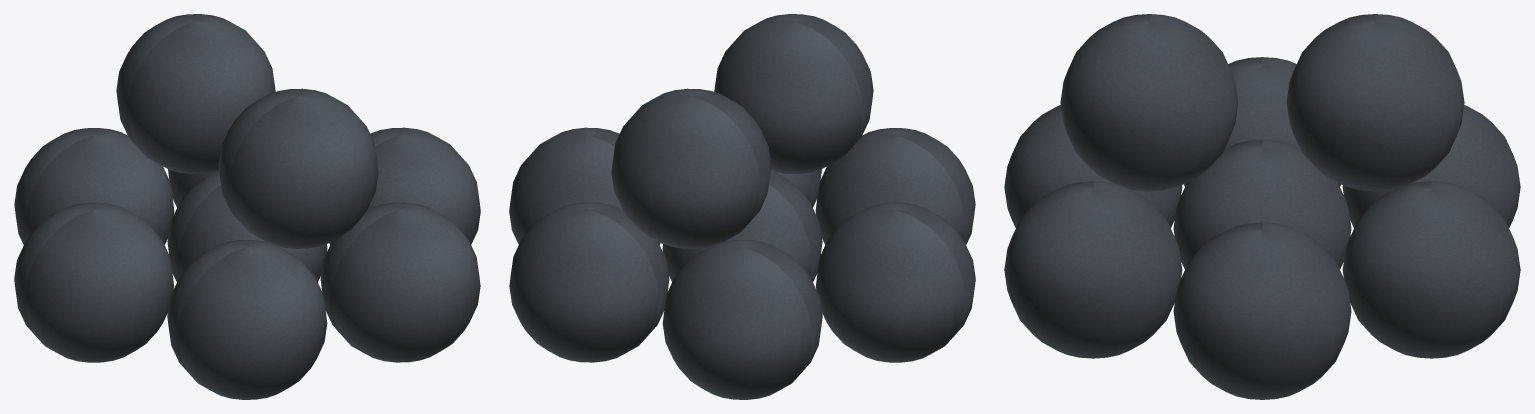
Rendered from ShotgunLeadBuckshot.fbx.
3 views of the same model, side by side, from view 1: azimuth 30°, elevation 25°; view 2: azimuth 150°, elevation 25°; view 3: azimuth 270°, elevation 25° (orthographic). The views are drawn at different scales.
Visible parts, largest first — view 1: ShotgunLeadBuckshot; view 2: ShotgunLeadBuckshot; view 3: ShotgunLeadBuckshot.
Part boxes in pixels (<box>): ShotgunLeadBuckshot: <box>14,14,480,399</box>; ShotgunLeadBuckshot: <box>509,14,975,399</box>; ShotgunLeadBuckshot: <box>1004,14,1520,399</box>.
Size of the model in its own units: 2.3 by 1.28 by 2.09.
Materials: 1 (1 with a texture image).
